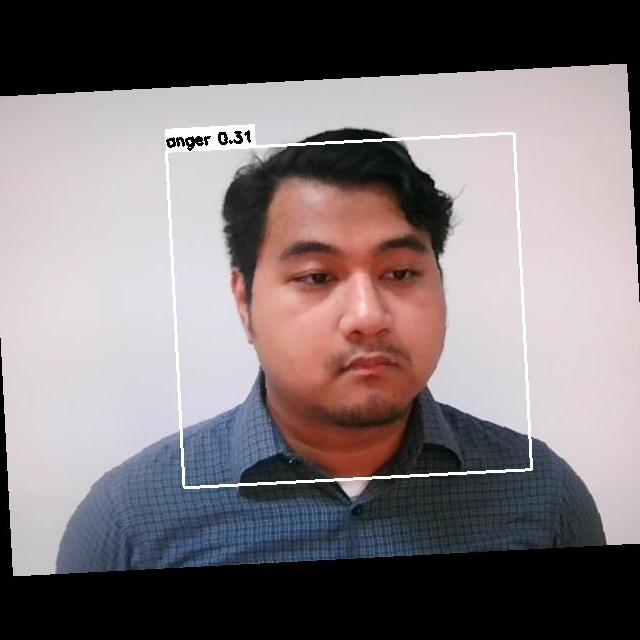Natural: (272, 228, 458, 406)
